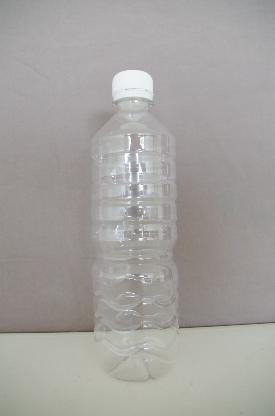Plastic Bottle: (90, 69, 180, 381)
